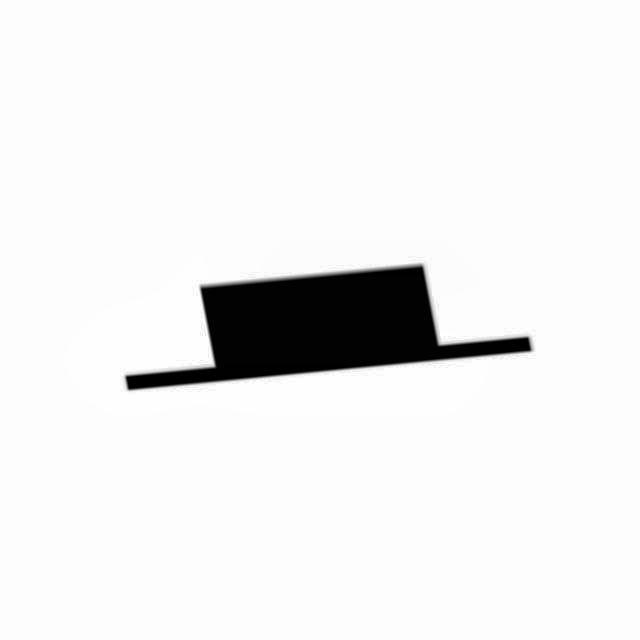Half-rest: (94, 255, 550, 392)
